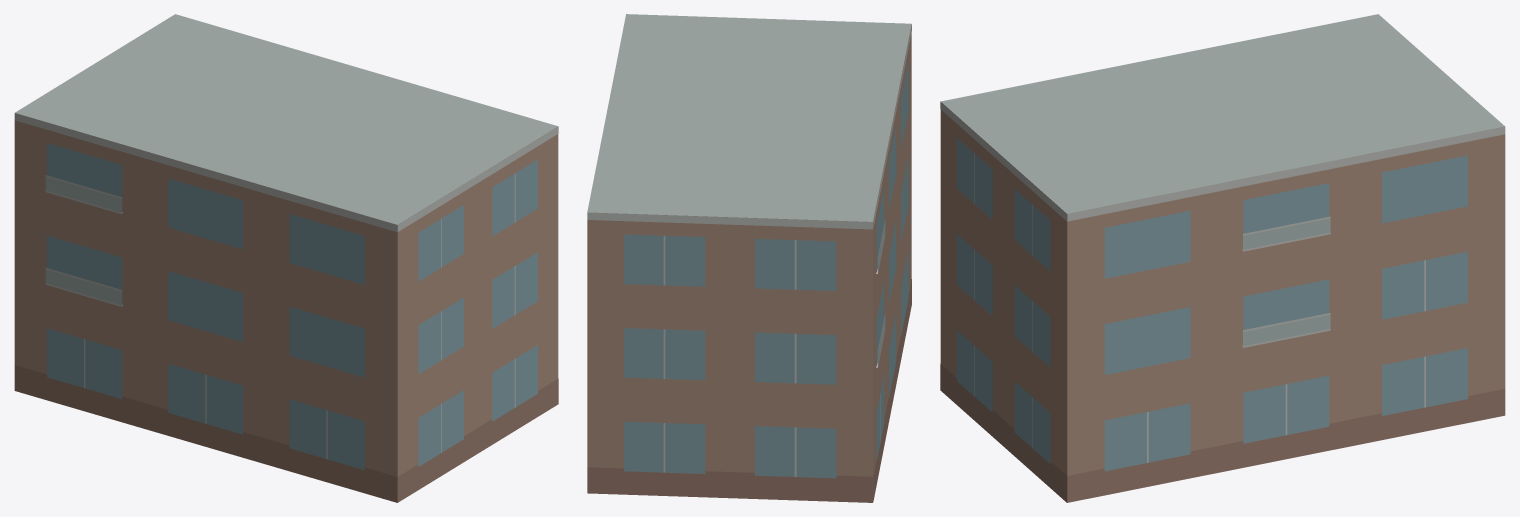
Rendered from survey-upis-32778410.glb.
3 views of the same model, side by side, from view 1: azimuth 30°, elevation 25°; view 2: azimuth 150°, elevation 25°; view 3: azimuth 270°, elevation 25° (orthographic). The views are drawn at different scales.
Visible parts, largest first — view 1: survey-upis-32778410.tmp; view 2: survey-upis-32778410.tmp; view 3: survey-upis-32778410.tmp.
Boxes of the visible parts, left/top/right/bottom form: survey-upis-32778410.tmp: left=14, top=14, right=558, bottom=502; survey-upis-32778410.tmp: left=587, top=14, right=911, bottom=502; survey-upis-32778410.tmp: left=940, top=14, right=1505, bottom=502.
Bounding box in the file's own units: 13.59 × 9.15 × 16.22.
